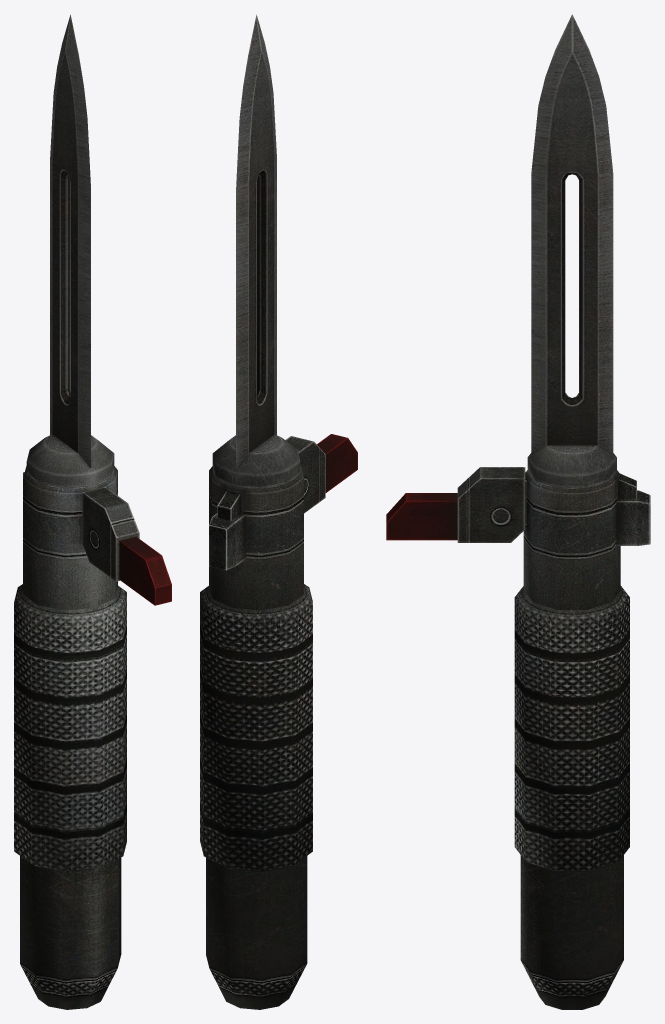
File: BallisticKnife.obj
The picture shows the model from 3 angles, left to right: view 1: azimuth 30°, elevation 25°; view 2: azimuth 150°, elevation 25°; view 3: azimuth 270°, elevation 25°; orthographic projection.
Parts seen in each view (by area): view 1: Model_BallisticKnife, Model_Knife, Model_Button; view 2: Model_BallisticKnife, Model_Knife, Model_Button; view 3: Model_BallisticKnife, Model_Knife, Model_Button.
Part boxes in pixels (box(x1,y1,x2,y2)): Model_BallisticKnife: box(14, 466, 139, 1009); Model_Knife: box(26, 14, 114, 488); Model_Button: box(119, 536, 171, 605); Model_BallisticKnife: box(200, 436, 325, 1009); Model_Knife: box(212, 14, 300, 488); Model_Button: box(317, 434, 357, 492); Model_BallisticKnife: box(457, 467, 650, 1009); Model_Knife: box(527, 14, 616, 487); Model_Button: box(386, 493, 457, 540).
Size of the model in its own units: 0.0348 by 0.3431 by 0.0836.
1 material, 1 textured.
